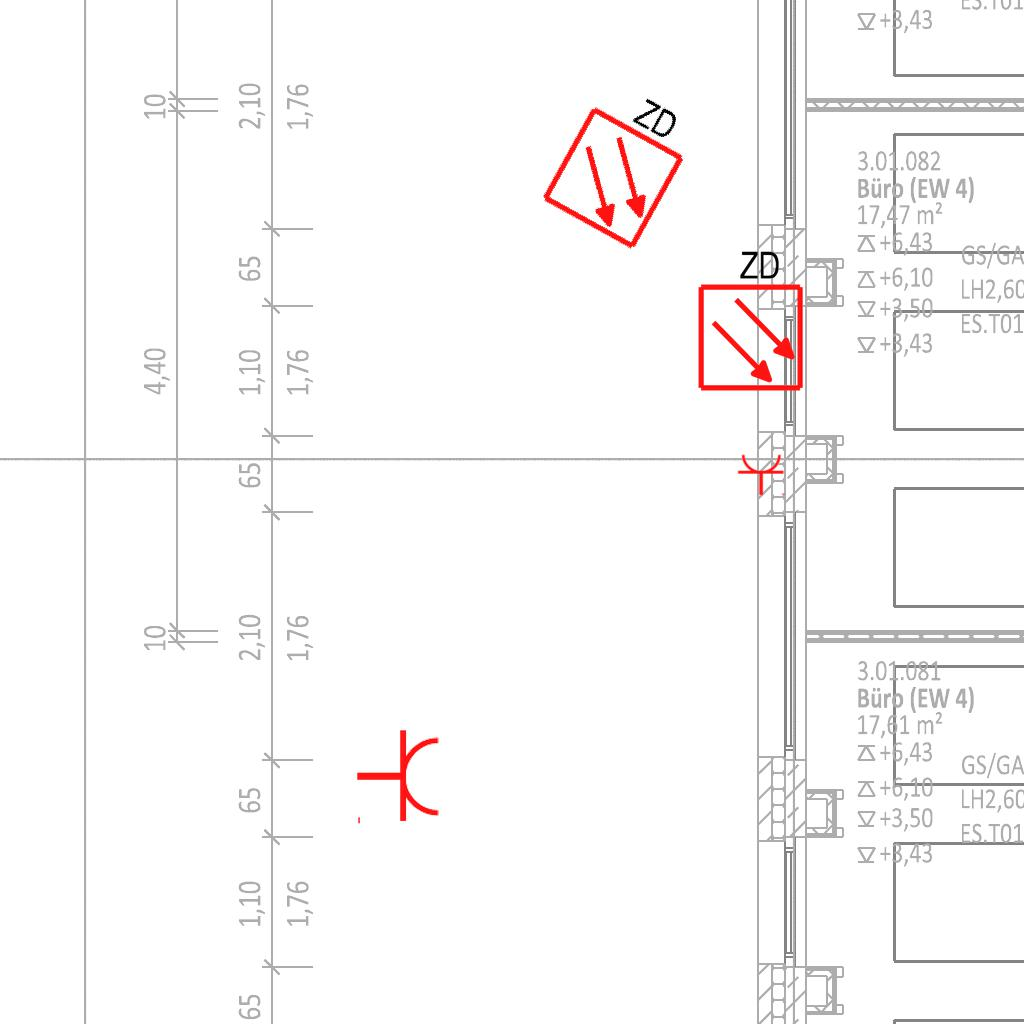Schukosteckdose_einfach: (355, 728, 442, 828), (737, 453, 787, 496)
ZD_Melder_in_Zwischendecke_mit_Revisionsoeffnung_mind_40_x_40_cm: (535, 67, 707, 254), (692, 244, 806, 393)
